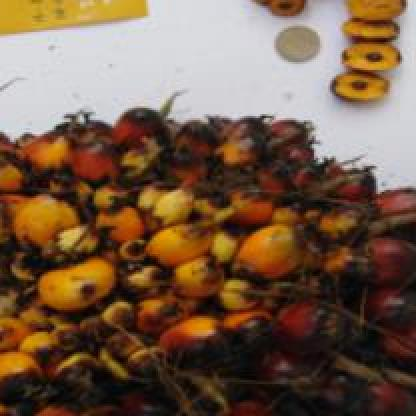underripe: (0, 92, 416, 416)
